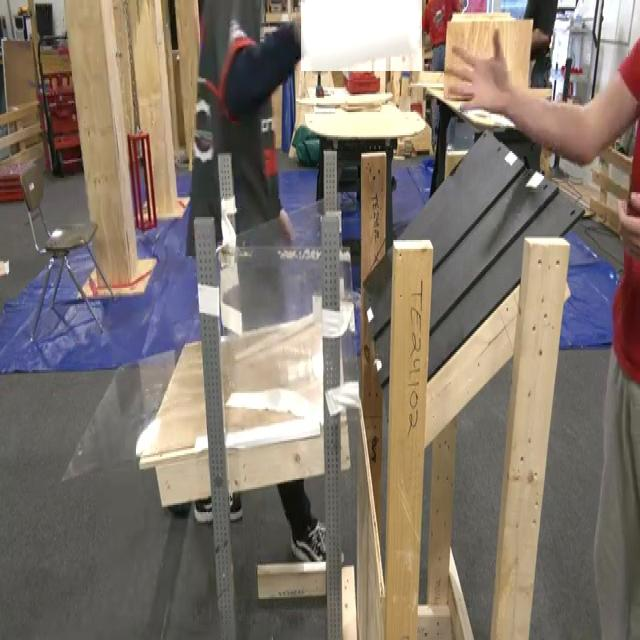Coral: (301, 0, 422, 71)
